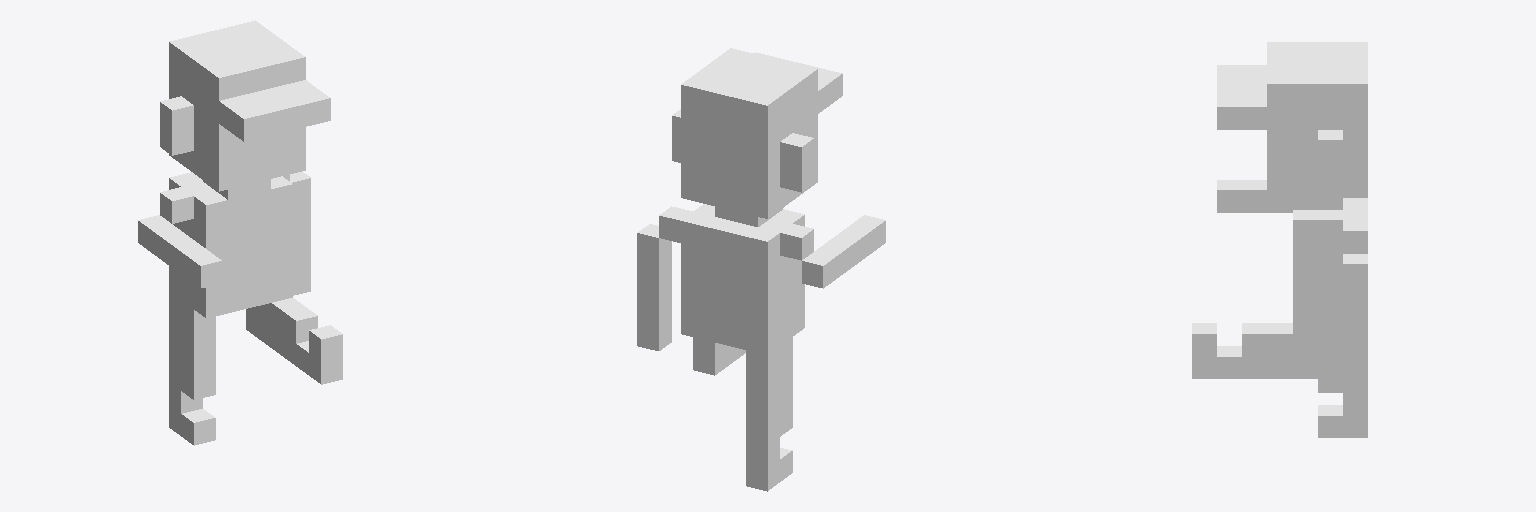
Rendered from machinist1_Walk1-00.obj.
3 views of the same model, side by side, from view 1: azimuth 30°, elevation 25°; view 2: azimuth 150°, elevation 25°; view 3: azimuth 270°, elevation 25° (orthographic).
Size of the model in its own units: 8 by 17 by 7.